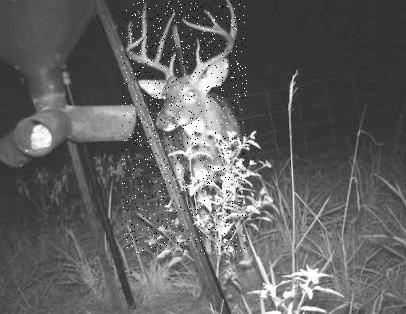Deer: (121, 0, 247, 254)
